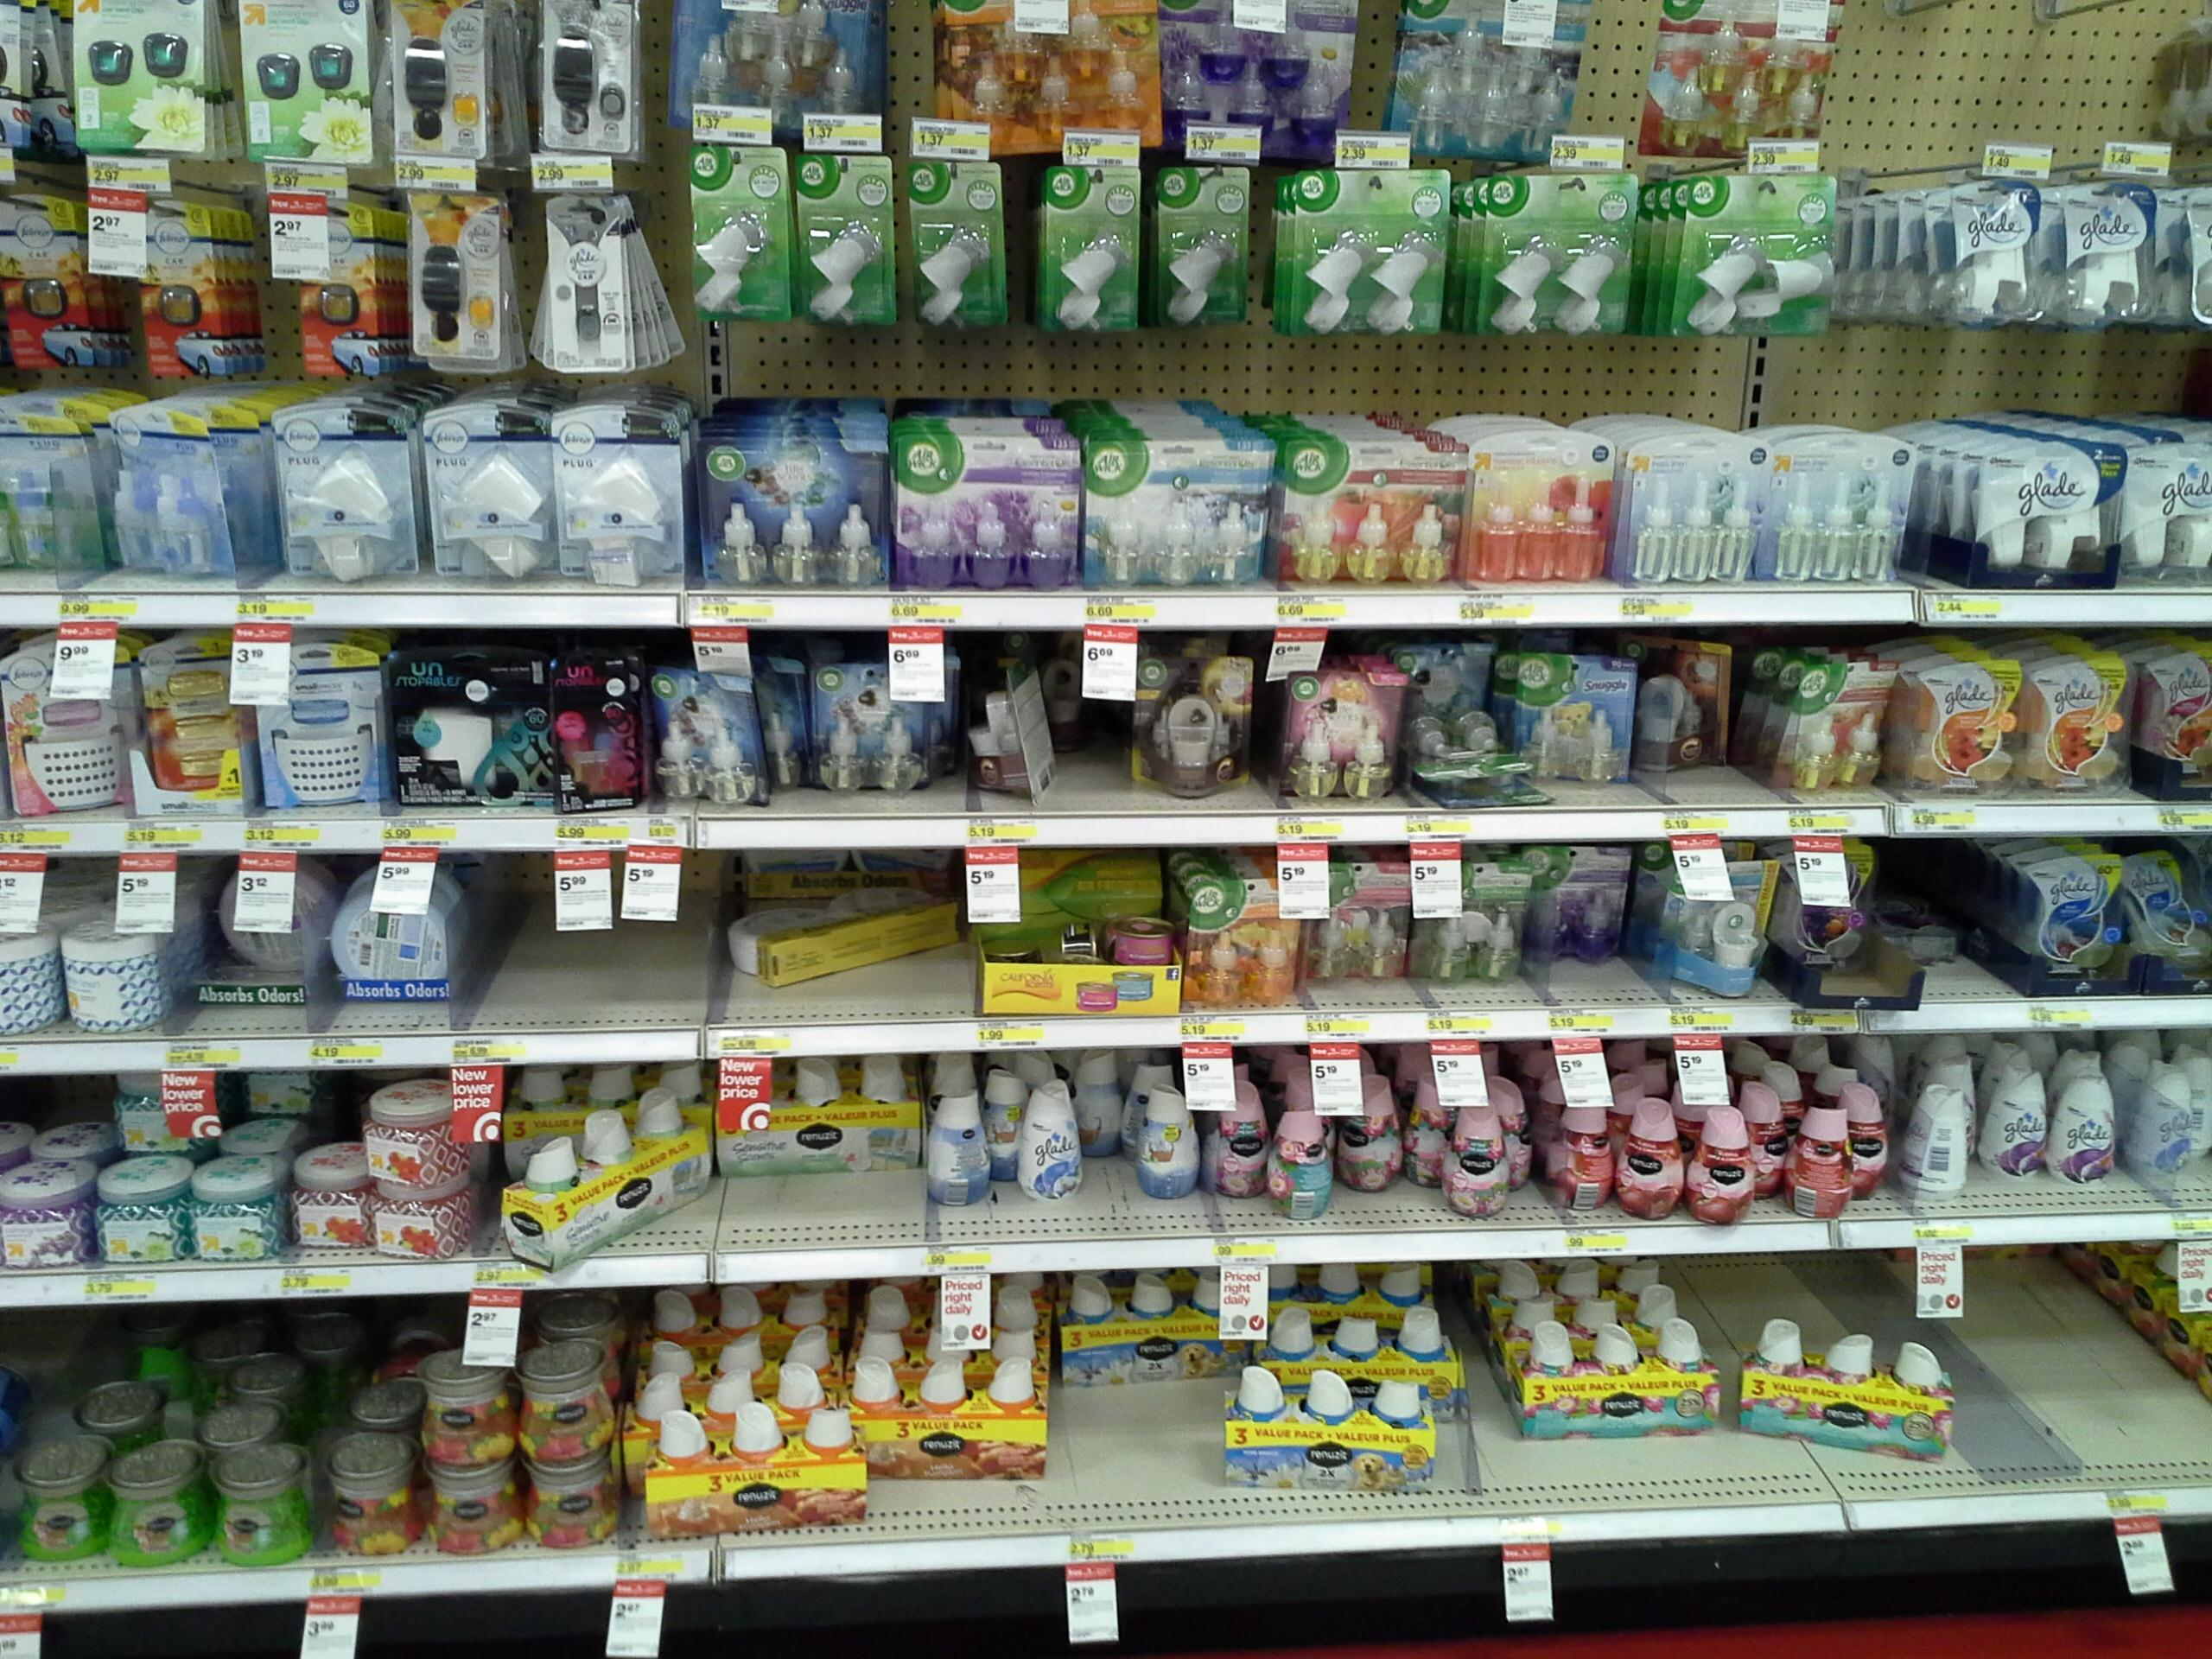misalignment: (1743, 1324, 1959, 1473), (489, 1129, 709, 1265), (730, 899, 970, 985), (644, 659, 772, 809), (1406, 694, 1529, 810), (961, 660, 1064, 800), (1642, 641, 1749, 775), (1911, 1084, 1970, 1195)
